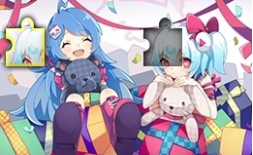gap: (143, 18, 181, 64)
